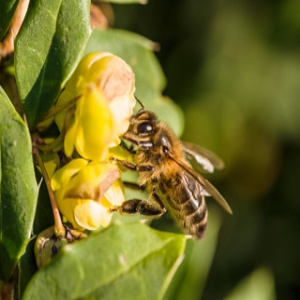bee: (111, 95, 235, 252)
